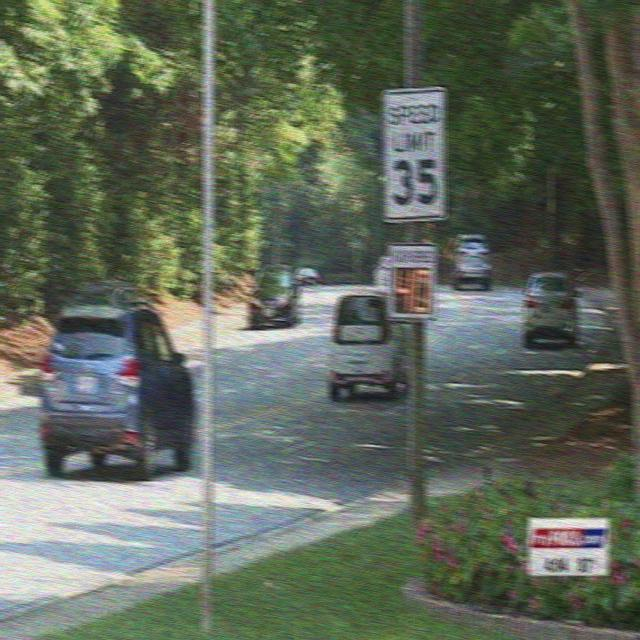speedLimit35: (378, 76, 453, 228)
